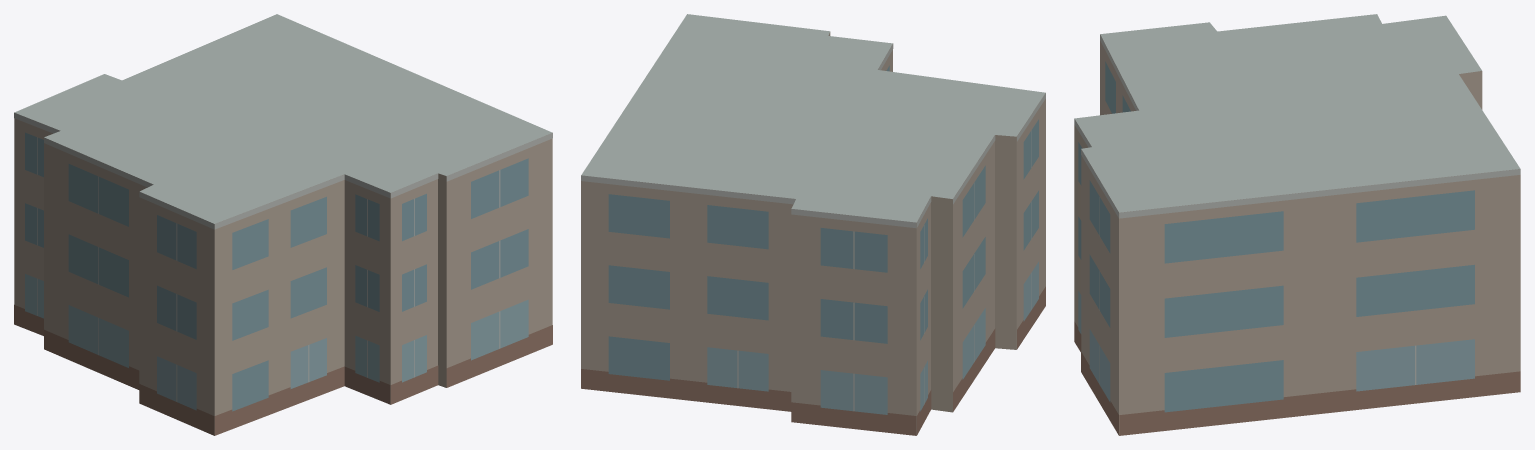
The model's file is survey-upis-32717115.glb.
The picture shows the model from 3 angles, left to right: view 1: azimuth 30°, elevation 25°; view 2: azimuth 150°, elevation 25°; view 3: azimuth 270°, elevation 25°; orthographic projection. The views are drawn at different scales.
Parts seen in each view (by area): view 1: survey-upis-32717115.tmp; view 2: survey-upis-32717115.tmp; view 3: survey-upis-32717115.tmp.
Boxes of the visible parts, x1,y1,x2,y2 form: survey-upis-32717115.tmp: (14, 14, 552, 435); survey-upis-32717115.tmp: (581, 14, 1045, 435); survey-upis-32717115.tmp: (1074, 14, 1520, 435).
Bounding box in the file's own units: 17.47 × 9.15 × 16.58.
